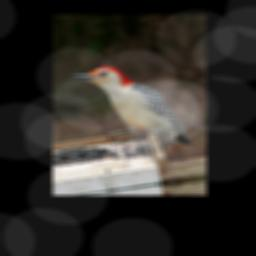Woodpecker: (67, 56, 194, 163)
